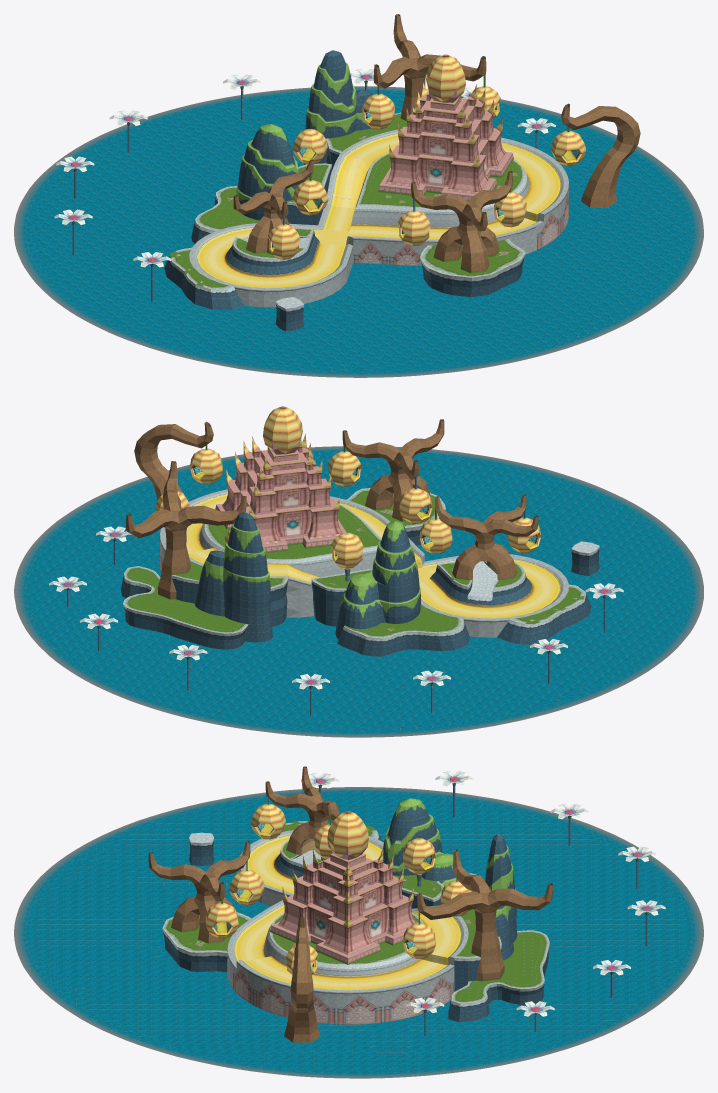
Rendered from Honey Speedway.dae.
The picture shows the model from 3 angles, top to bottom: view 1: azimuth 30°, elevation 25°; view 2: azimuth 150°, elevation 25°; view 3: azimuth 270°, elevation 25°; orthographic projection.
Visible parts, largest first — view 1: Sector 163, Sector 90, Sector 101, Sector 155, Sector 154, Sector 88, Sector 85, Sector 153, Sector 122, Sector 160, Sector 172, Sector 45 (+78 smaller); view 2: Sector 148, Sector 60, Sector 152, Sector 101, Sector 90, Sector 155, Sector 124, Sector 122, Sector 121, Sector 153, Sector 49, Sector 160 (+76 smaller); view 3: Sector 148, Sector 90, Sector 163, Sector 154, Sector 108, Sector 14, Sector 101, Sector 155, Sector 122, Sector 59, Sector 159, Sector 160 (+79 smaller).
Boxes of the visible parts, x1,y1,x2,y2 form: Sector 163: (612,191,703,249); Sector 90: (382,324,502,374); Sector 101: (78,160,202,208); Sector 155: (159,94,282,139); Sector 154: (522,238,608,297); Sector 88: (378,135,454,196); Sector 85: (245,299,369,351); Sector 153: (102,113,207,164); Sector 122: (14,181,114,233); Sector 160: (14,220,109,267); Sector 172: (556,281,655,333); Sector 45: (396,141,480,228); Sector 148: (165,645,301,697); Sector 60: (274,486,342,556); Sector 152: (243,616,364,671); Sector 101: (308,671,430,719); Sector 90: (506,473,615,529); Sector 155: (131,676,251,724); Sector 124: (62,651,176,700); Sector 122: (395,692,533,735); Sector 121: (449,636,573,680); Sector 153: (215,688,329,734); Sector 49: (404,606,509,651); Sector 160: (477,675,598,718); Sector 148: (528,919,628,963); Sector 90: (15,887,126,919); Sector 163: (151,1036,279,1074); Sector 154: (126,971,247,1005); Sector 108: (327,1046,427,1078); Sector 14: (379,880,460,976); Sector 101: (528,855,603,897); Sector 155: (629,919,703,961); Sector 122: (523,806,623,855); Sector 59: (244,880,330,976); Sector 159: (425,1036,528,1075); Sector 160: (449,793,546,834).
Bounding box in the file's own units: 105 × 105 × 26.99.
Materials: 1 (1 with a texture image).
